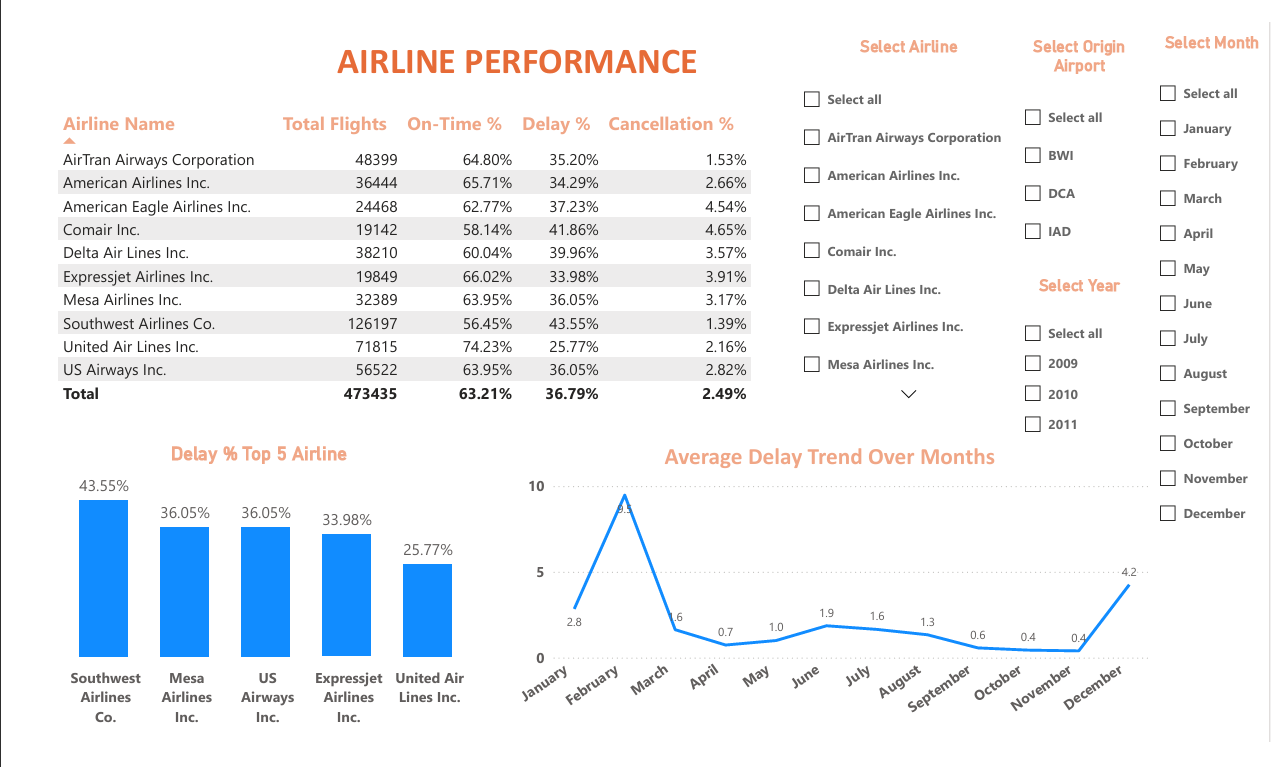

The dashboard page shown, as its layout file describes it:
{"tool":"powerbi","page":{"name":"Airline Performance","canvas":[1280,720],"ordinal":1},"visuals":[{"type":"textbox","box":[260.9,0,491.1,73.8],"z":0},{"type":"lineChart","title":"Average Delay Trend Over Months","fields":{"Category":["FactFlights.Month"],"Y":["FactFlights.Avg Delay of Delayed Flights"]},"box":[494.3,420.3,666.8,301],"z":1000},{"type":"listSlicer","title":"Select Month","fields":{"Values":["FactFlights.Month"]},"box":[1161.1,0,119.4,539.7],"z":2000},{"type":"listSlicer","title":"Select Year","fields":{"Values":["FactFlights.Year"]},"box":[1022.3,249.1,123.2,195.9],"z":3000},{"type":"columnChart","title":"Delay % Top 5 Airline","fields":{"Category":["dimAirline.Airline Name"],"Y":["FactFlights.Delay %"]},"box":[0,420.9,481.2,299.1],"z":4000},{"type":"listSlicer","title":"Select Airline","fields":{"Values":["dimAirline.Airline Name"]},"box":[795.2,3.9,227,384],"z":5000},{"type":"listSlicer","title":"Select Origin Airport","fields":{"Values":["dimAirport.Origin Airport"]},"box":[1022.3,3.9,123.2,245.2],"z":6000},{"type":"tableEx","fields":{"Values":["dimAirline.Airline Name","FactFlights.Total Flights","FactFlights.On-Time %","FactFlights.Delay %","FactFlights.Cancellation %"]},"box":[28.3,73.8,723.7,313.8],"z":7000}]}

Visuals, with their boxes on the page's 1280x720 design canvas (x1, y1, x2, y2). These are canvas units, not pixel positions in the 1271x767 screenshot, which may show the page scaled, cropped or inside an application window:
textbox: x1=261 y1=0 x2=752 y2=74
"Average Delay Trend Over Months" lineChart: x1=494 y1=420 x2=1161 y2=721
"Select Month" listSlicer: x1=1161 y1=0 x2=1280 y2=540
"Select Year" listSlicer: x1=1022 y1=249 x2=1146 y2=445
"Delay % Top 5 Airline" columnChart: x1=0 y1=421 x2=481 y2=720
"Select Airline" listSlicer: x1=795 y1=4 x2=1022 y2=388
"Select Origin Airport" listSlicer: x1=1022 y1=4 x2=1146 y2=249
tableEx - dimAirline.Airline Name x FactFlights.Total Flights: x1=28 y1=74 x2=752 y2=388
